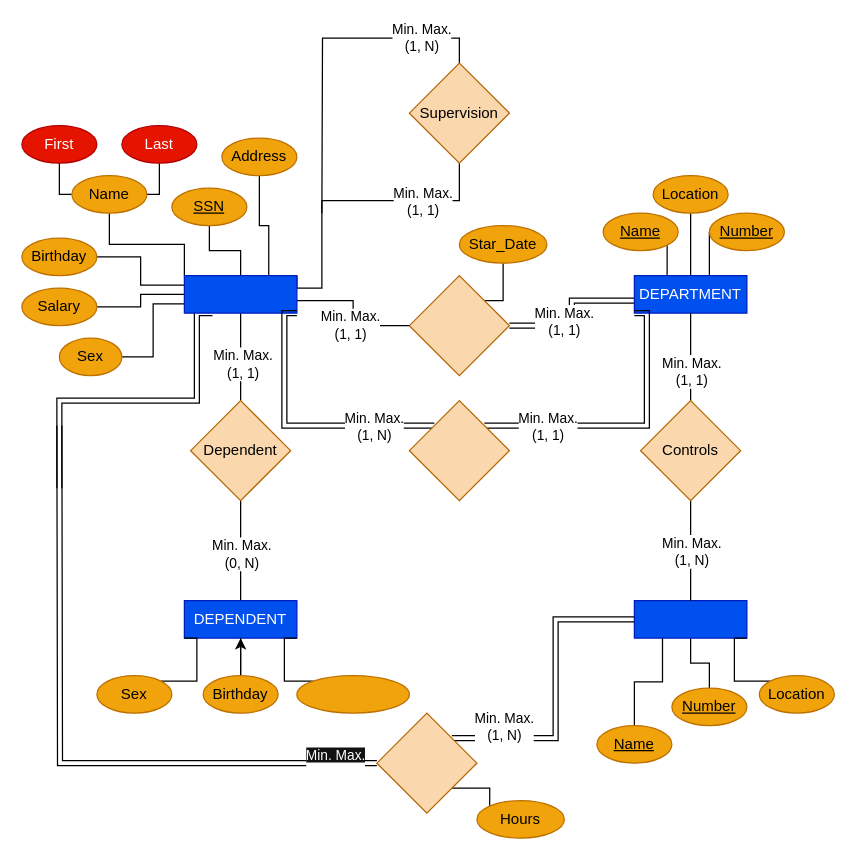
Some shapes in this 856 by 860 pixel diagram are drawn without their labels. The shapes that lost their labels are listed below. From the top down, each one's centre as x and y in pixels, then its label:
At [240,293]: "EMPLOYEE".
At [458,325]: "Manage".
At [458,450]: "Work For".
At [690,618]: "PROJECT".
At [352,693]: "Relationship".
At [426,762]: "Work On".
